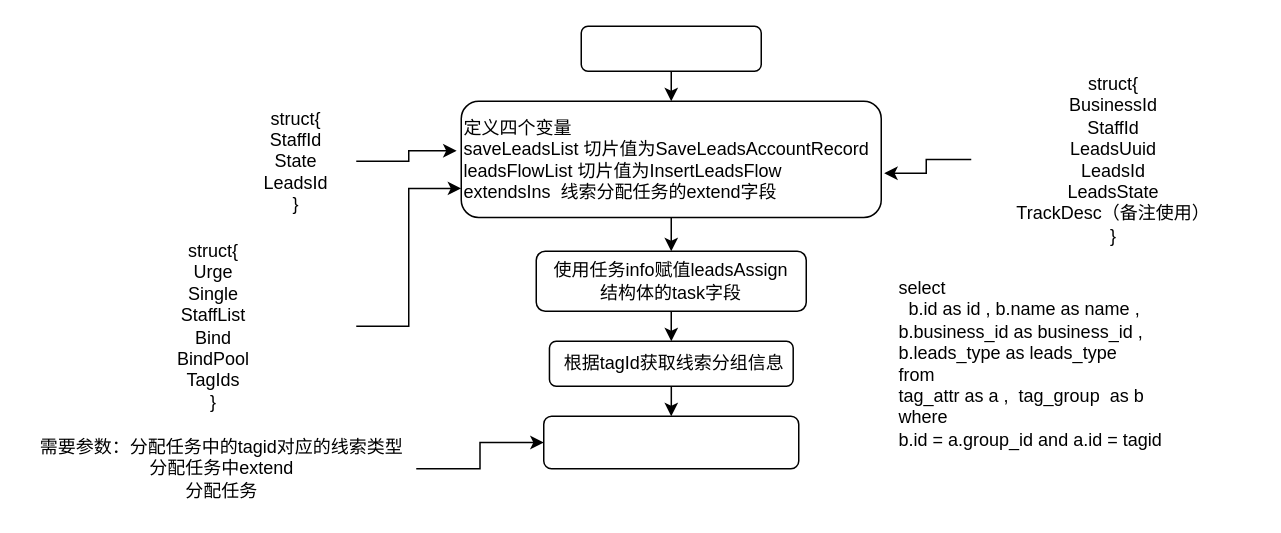
Some shapes in this 1281 by 533 pixel diagram are drawn without their labels. The centre of each missing label's shape, as x and y in pixels:
大公海小公海到私海: the point at 670,48
获取待分配总数和坐席切片列表: the point at 670,442
